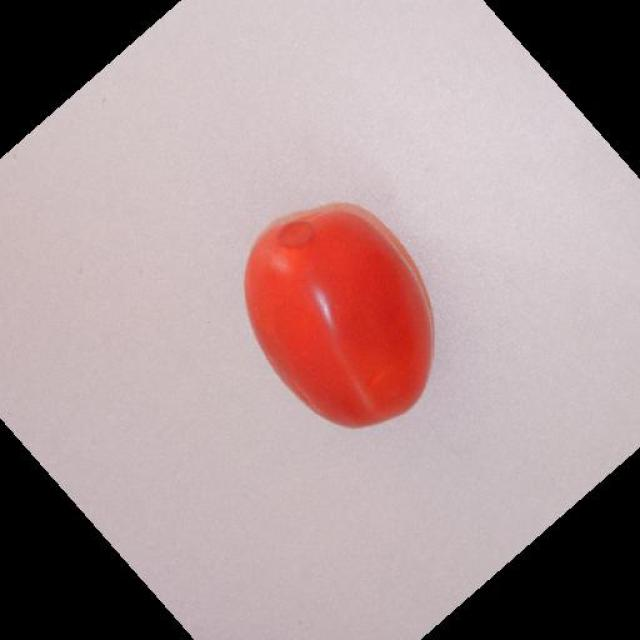Stale_tomato: (223, 206, 470, 465)
